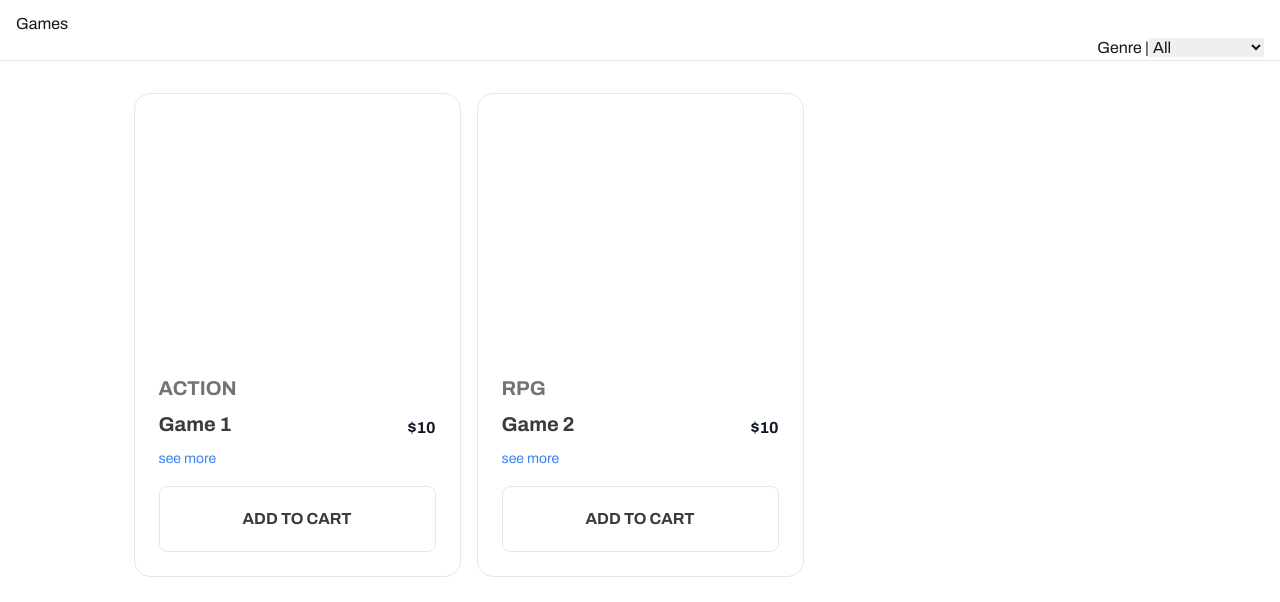
Test: Games catalog › should click on see more button
Click the button "see more" below "Game 1" at (187, 459), box [158, 449, 216, 469]
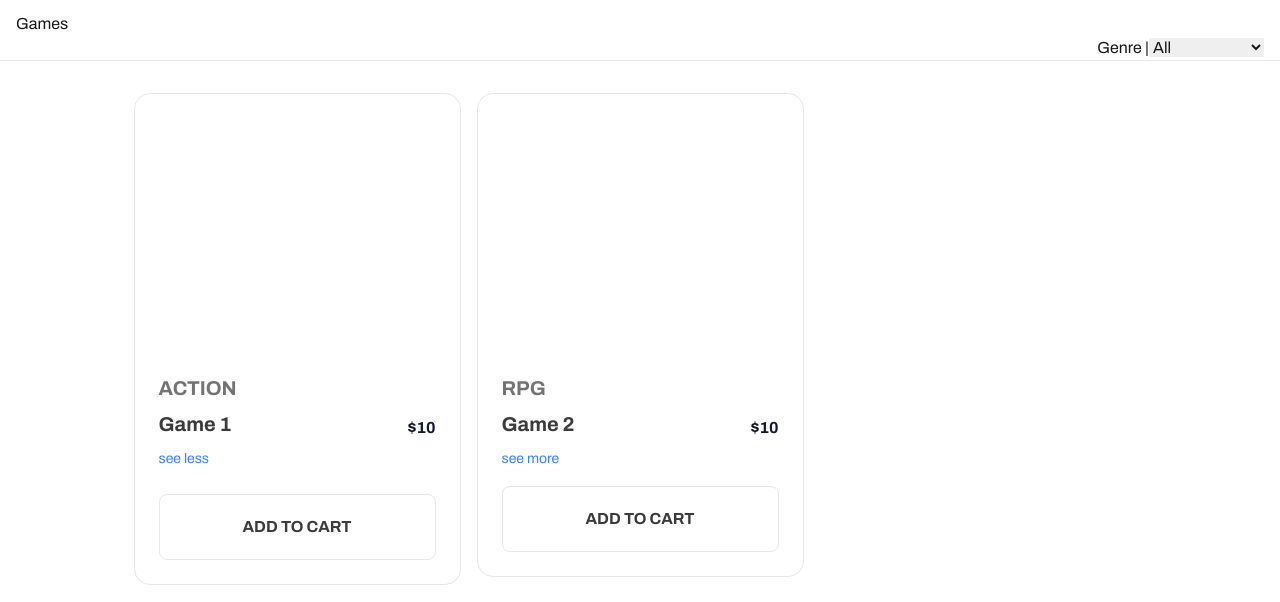
Check: the button "see less" is shown, box [158, 449, 209, 469]
